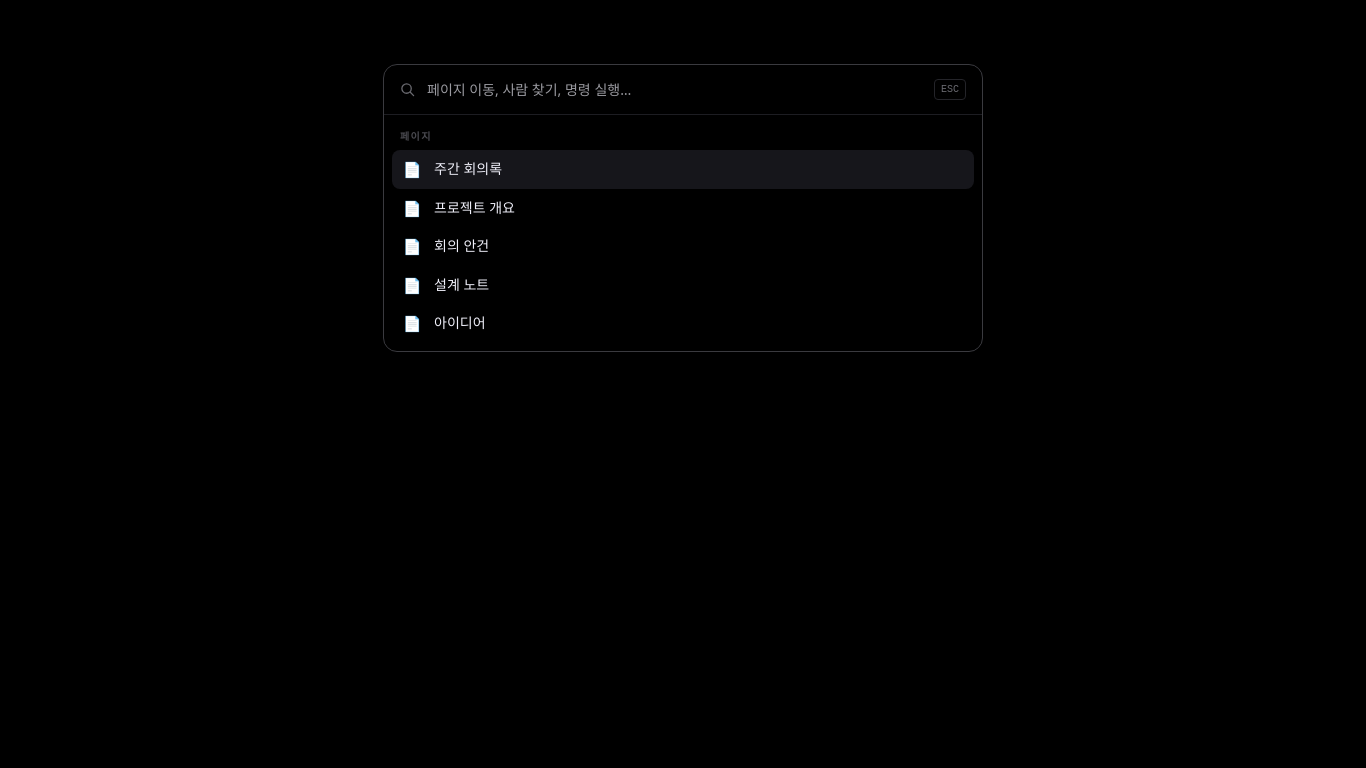
Scenario: CommandPaletteContainer › AC-3: '회의' 입력 시 제목에 포함하는 페이지만 남는다(중첩 포함)
The width and height of the screenshot is (1366, 768).
Type "회의" into the field named "명령 검색". click: x=674, y=90
box: [427, 80, 922, 100]
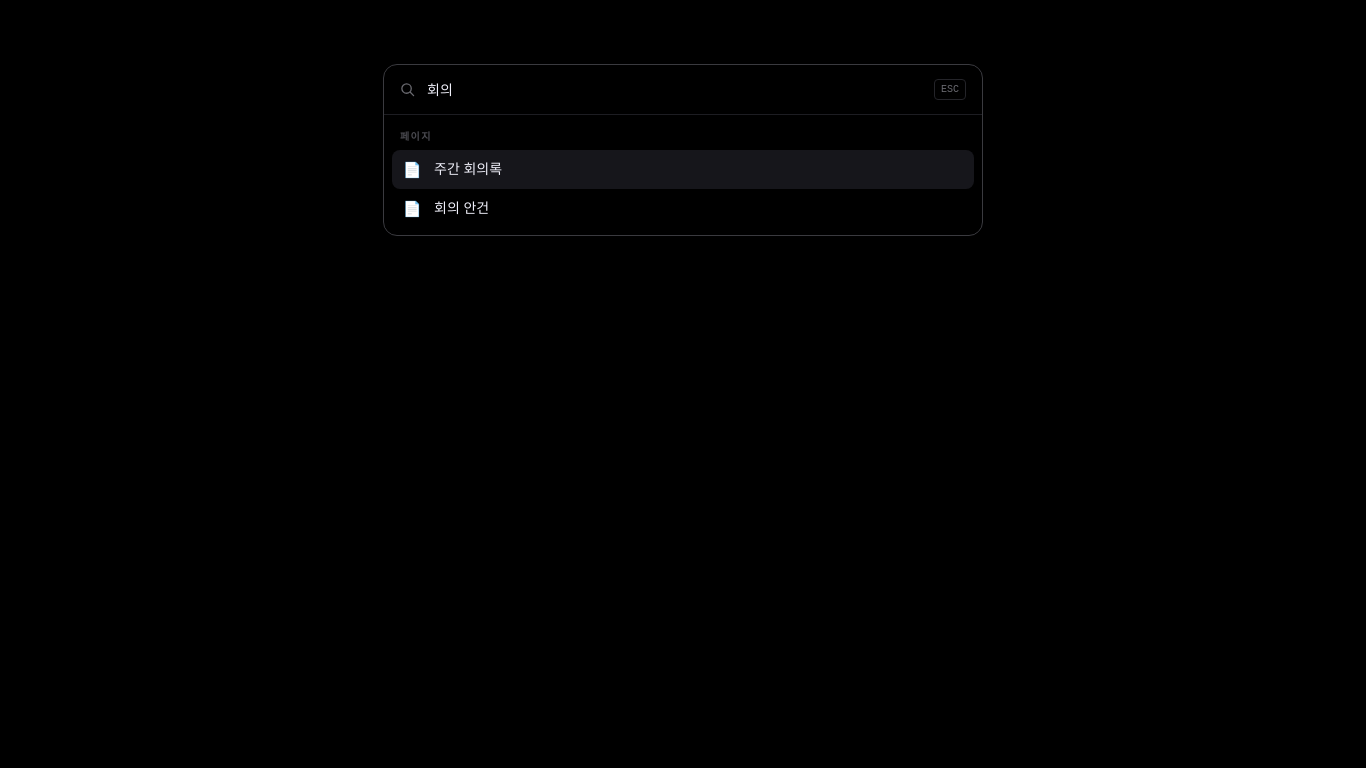
Now the button "프로젝트 개요" is gone
Now the button "설계 노트" is gone
Now the button "아이디어" is gone
